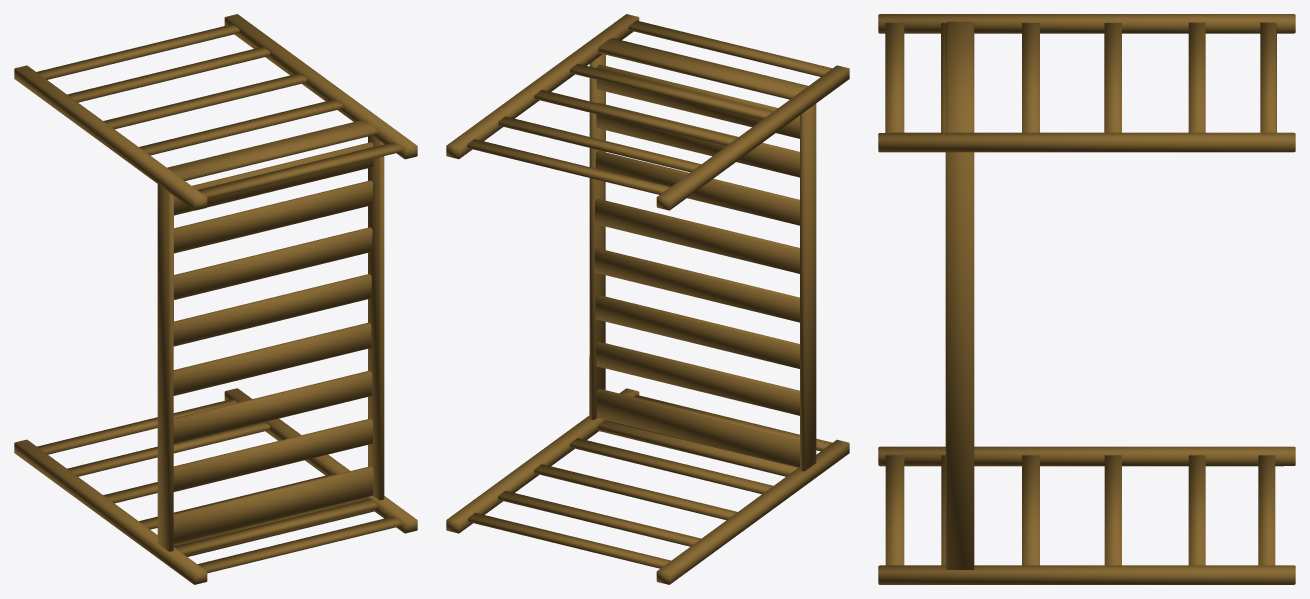
File: MeshBed_18_2_0.obj
The picture shows the model from 3 angles, left to right: view 1: azimuth 30°, elevation 25°; view 2: azimuth 150°, elevation 25°; view 3: azimuth 270°, elevation 25°; orthographic projection. The views are drawn at different scales.
Visible parts, largest first — view 1: Bed_18_2; view 2: Bed_18_2; view 3: Bed_18_2.
Boxes of the visible parts, x1,y1,x2,y2 form: Bed_18_2: (14,14,417,584); Bed_18_2: (446,14,849,584); Bed_18_2: (878,14,1295,584).
Bounding box in the file's own units: 1.13 × 1.86 × 1.58.
